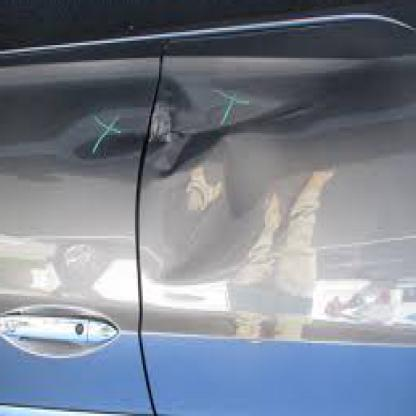dent: (148, 66, 262, 260)
